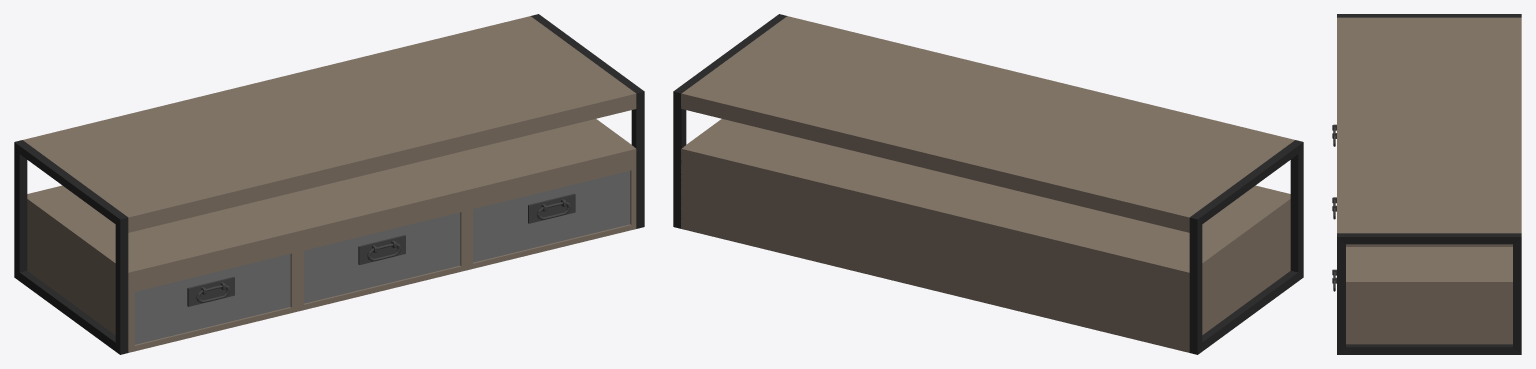
The model's file is TVStand.fbx.
The picture shows the model from 3 angles, left to right: view 1: azimuth 30°, elevation 25°; view 2: azimuth 150°, elevation 25°; view 3: azimuth 270°, elevation 25°; orthographic projection. The views are drawn at different scales.
Visible parts, largest first — view 1: pTorus19; view 2: pTorus19; view 3: pTorus19.
Boxes of the visible parts, x1,y1,x2,y2 form: pTorus19: [14, 14, 644, 354]; pTorus19: [673, 14, 1303, 354]; pTorus19: [1332, 14, 1521, 354].
Size of the model in its own units: 11.51 by 2.84 by 4.13.
